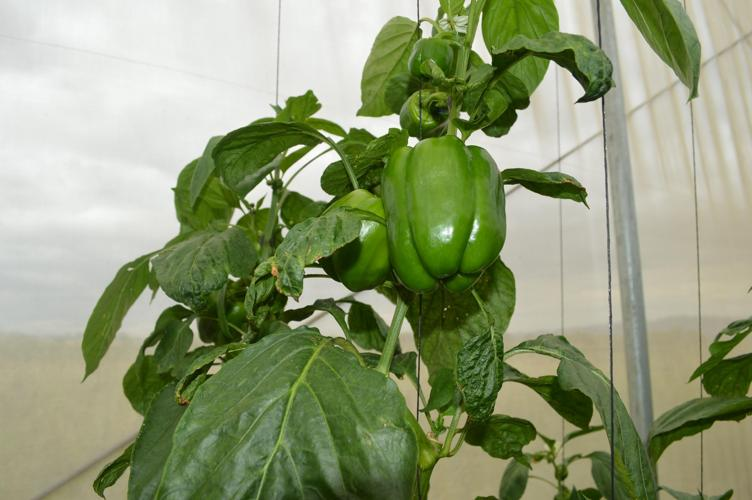BellPepper: (381, 133, 511, 288), (310, 188, 388, 288)
